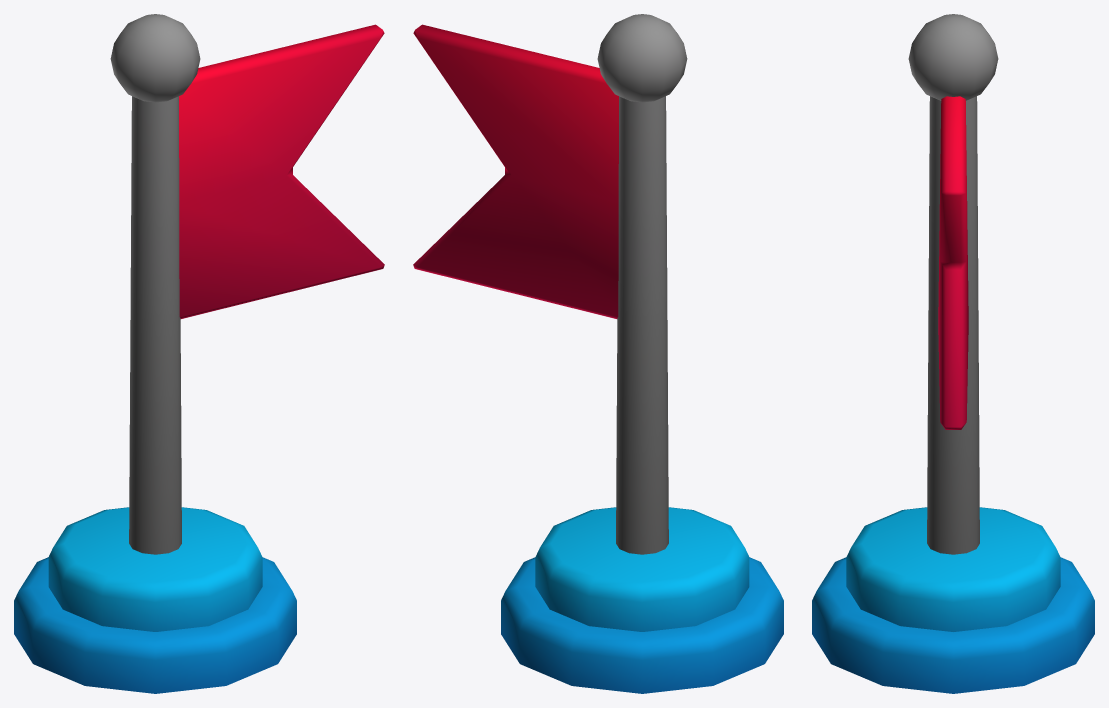
File: Props_Flag_02.fbx
3 views of the same model, side by side, from view 1: azimuth 30°, elevation 25°; view 2: azimuth 150°, elevation 25°; view 3: azimuth 270°, elevation 25° (orthographic).
Visible parts, largest first — view 1: Props_Flag_02; view 2: Props_Flag_02; view 3: Props_Flag_02.
Boxes of the visible parts, <box> form: Props_Flag_02: <box>14,14,384,693</box>; Props_Flag_02: <box>413,14,783,693</box>; Props_Flag_02: <box>812,14,1094,693</box>.
Bounding box in the file's own units: 67.14 × 114 × 47.27.
